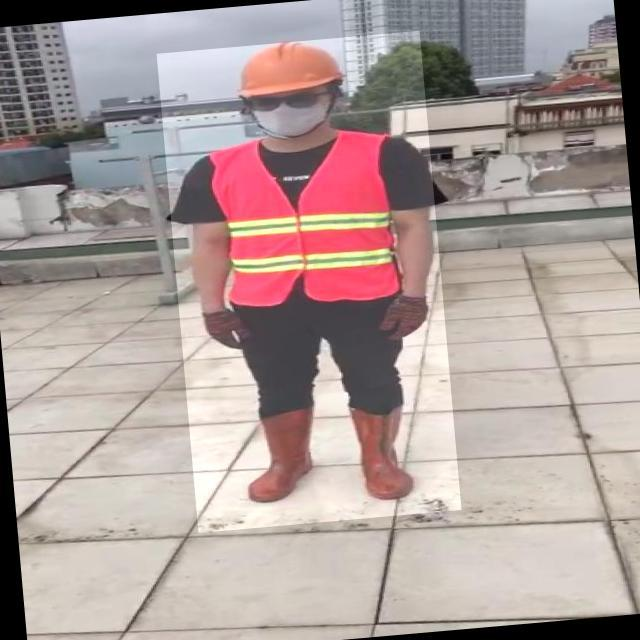Gloves: (380, 298, 431, 342), (205, 305, 250, 353)
Helmet: (224, 38, 346, 99)
Human: (157, 31, 462, 533)
Safety Boot: (239, 406, 318, 504), (346, 401, 416, 502)
Safety Vest: (212, 128, 402, 313)
